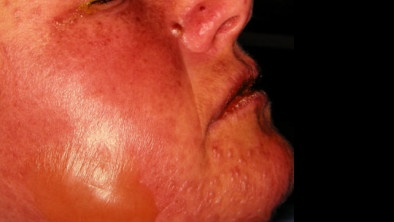SJS-TEN: (0, 134, 285, 222)
